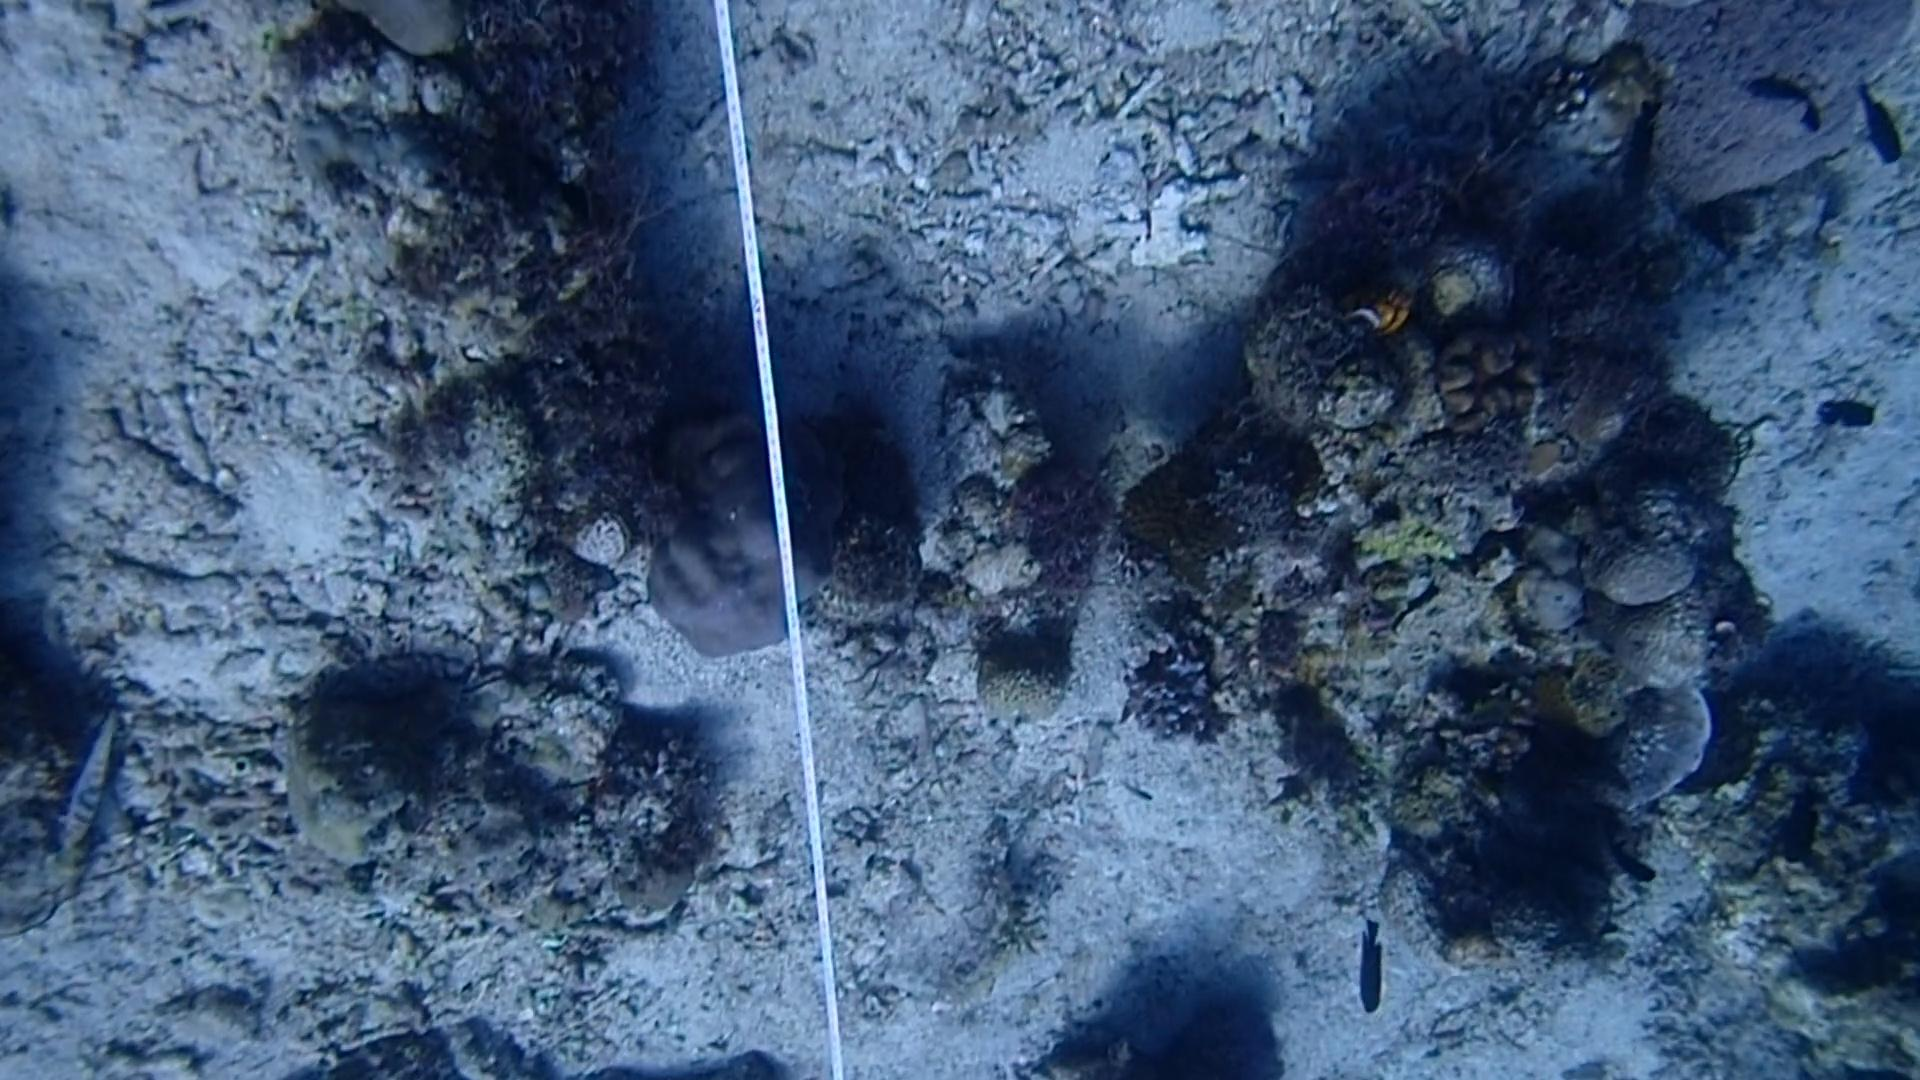Dark Fish: (1600, 100, 1685, 204), (1763, 775, 1842, 882), (1847, 62, 1912, 190), (1733, 58, 1829, 142), (1333, 916, 1403, 1025), (1576, 823, 1669, 897), (1815, 378, 1888, 436)
Light Fish w Back Stripes: (53, 691, 137, 857)
